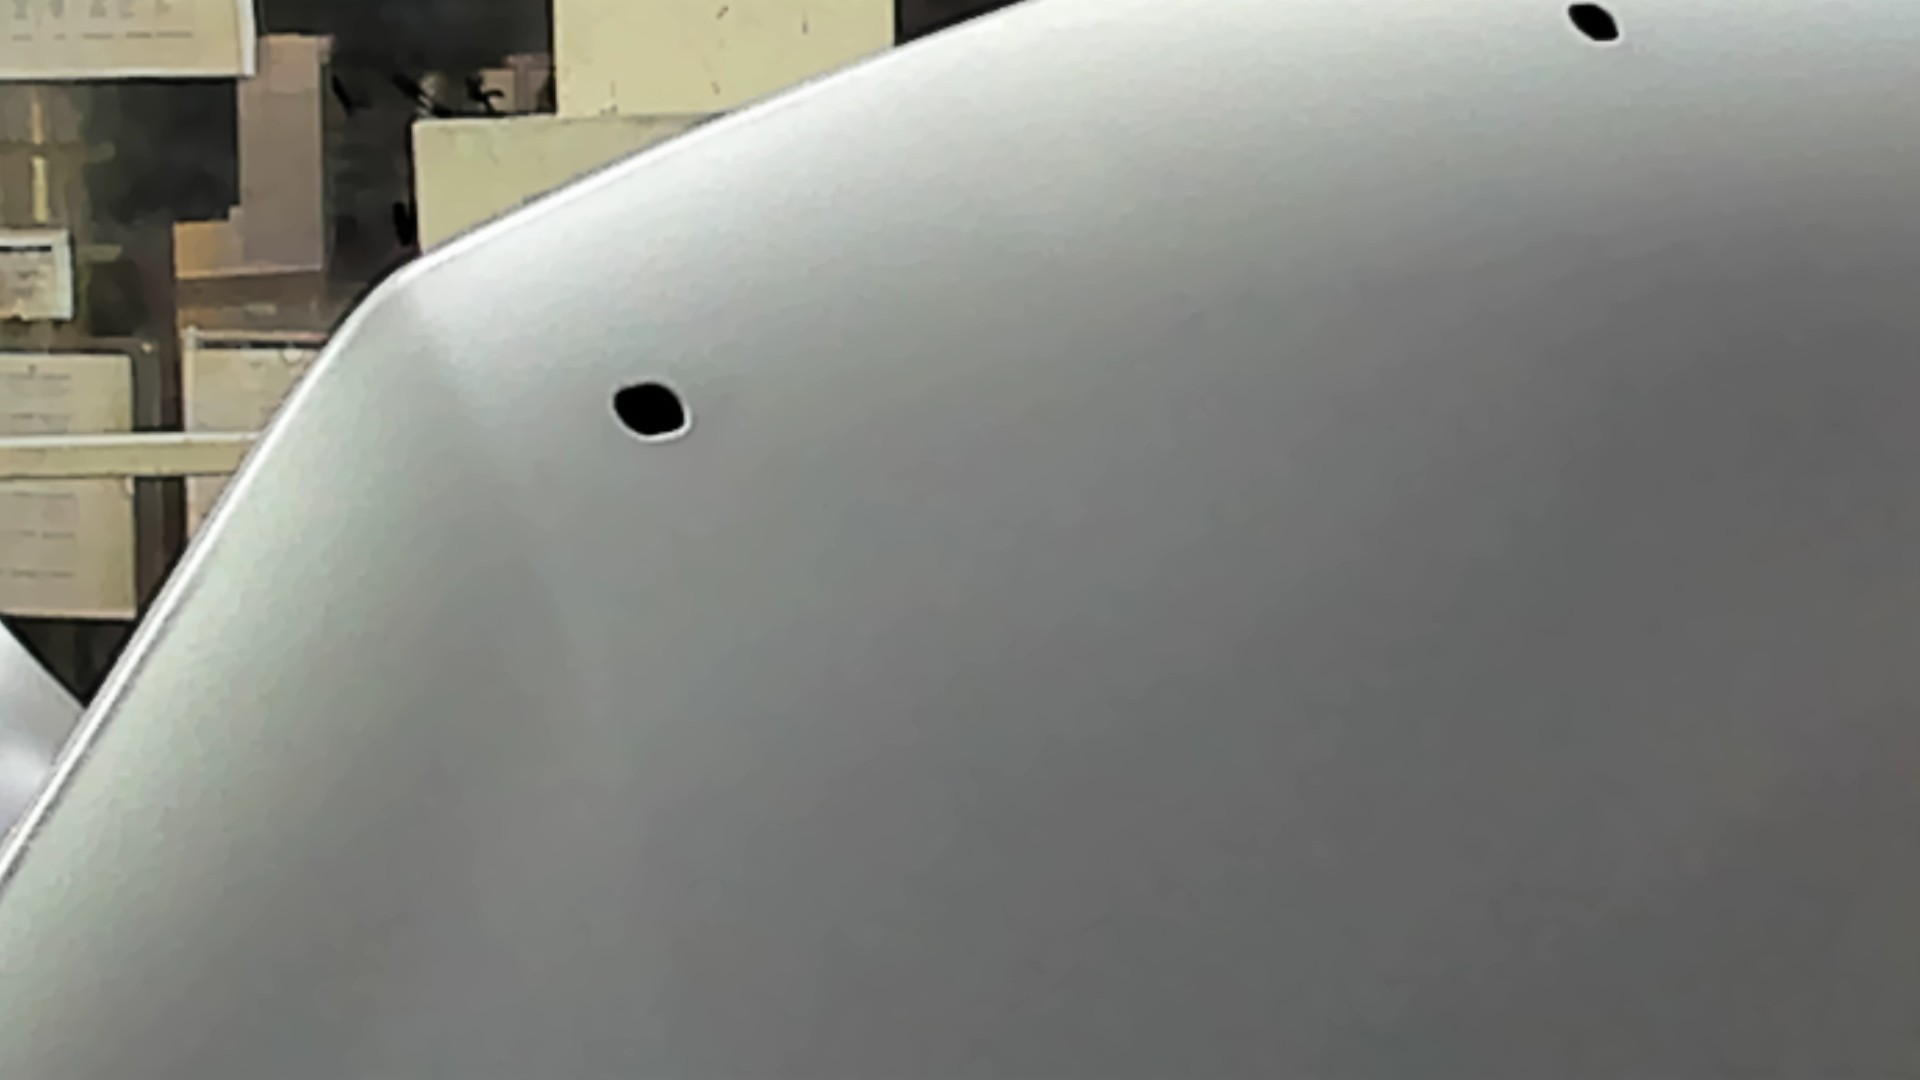amorfo: (607, 376, 695, 442), (1560, 1, 1625, 49)
